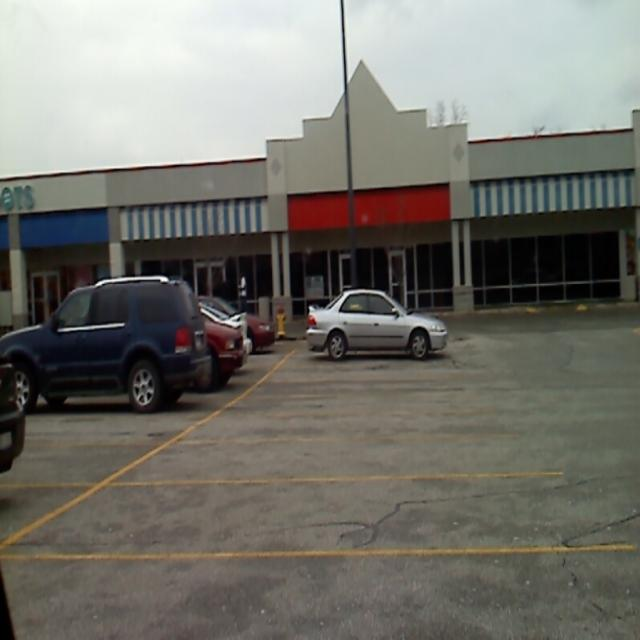car: (1, 271, 208, 400), (307, 279, 451, 358), (199, 301, 247, 391), (214, 295, 270, 352), (0, 365, 27, 470), (196, 293, 243, 333)
